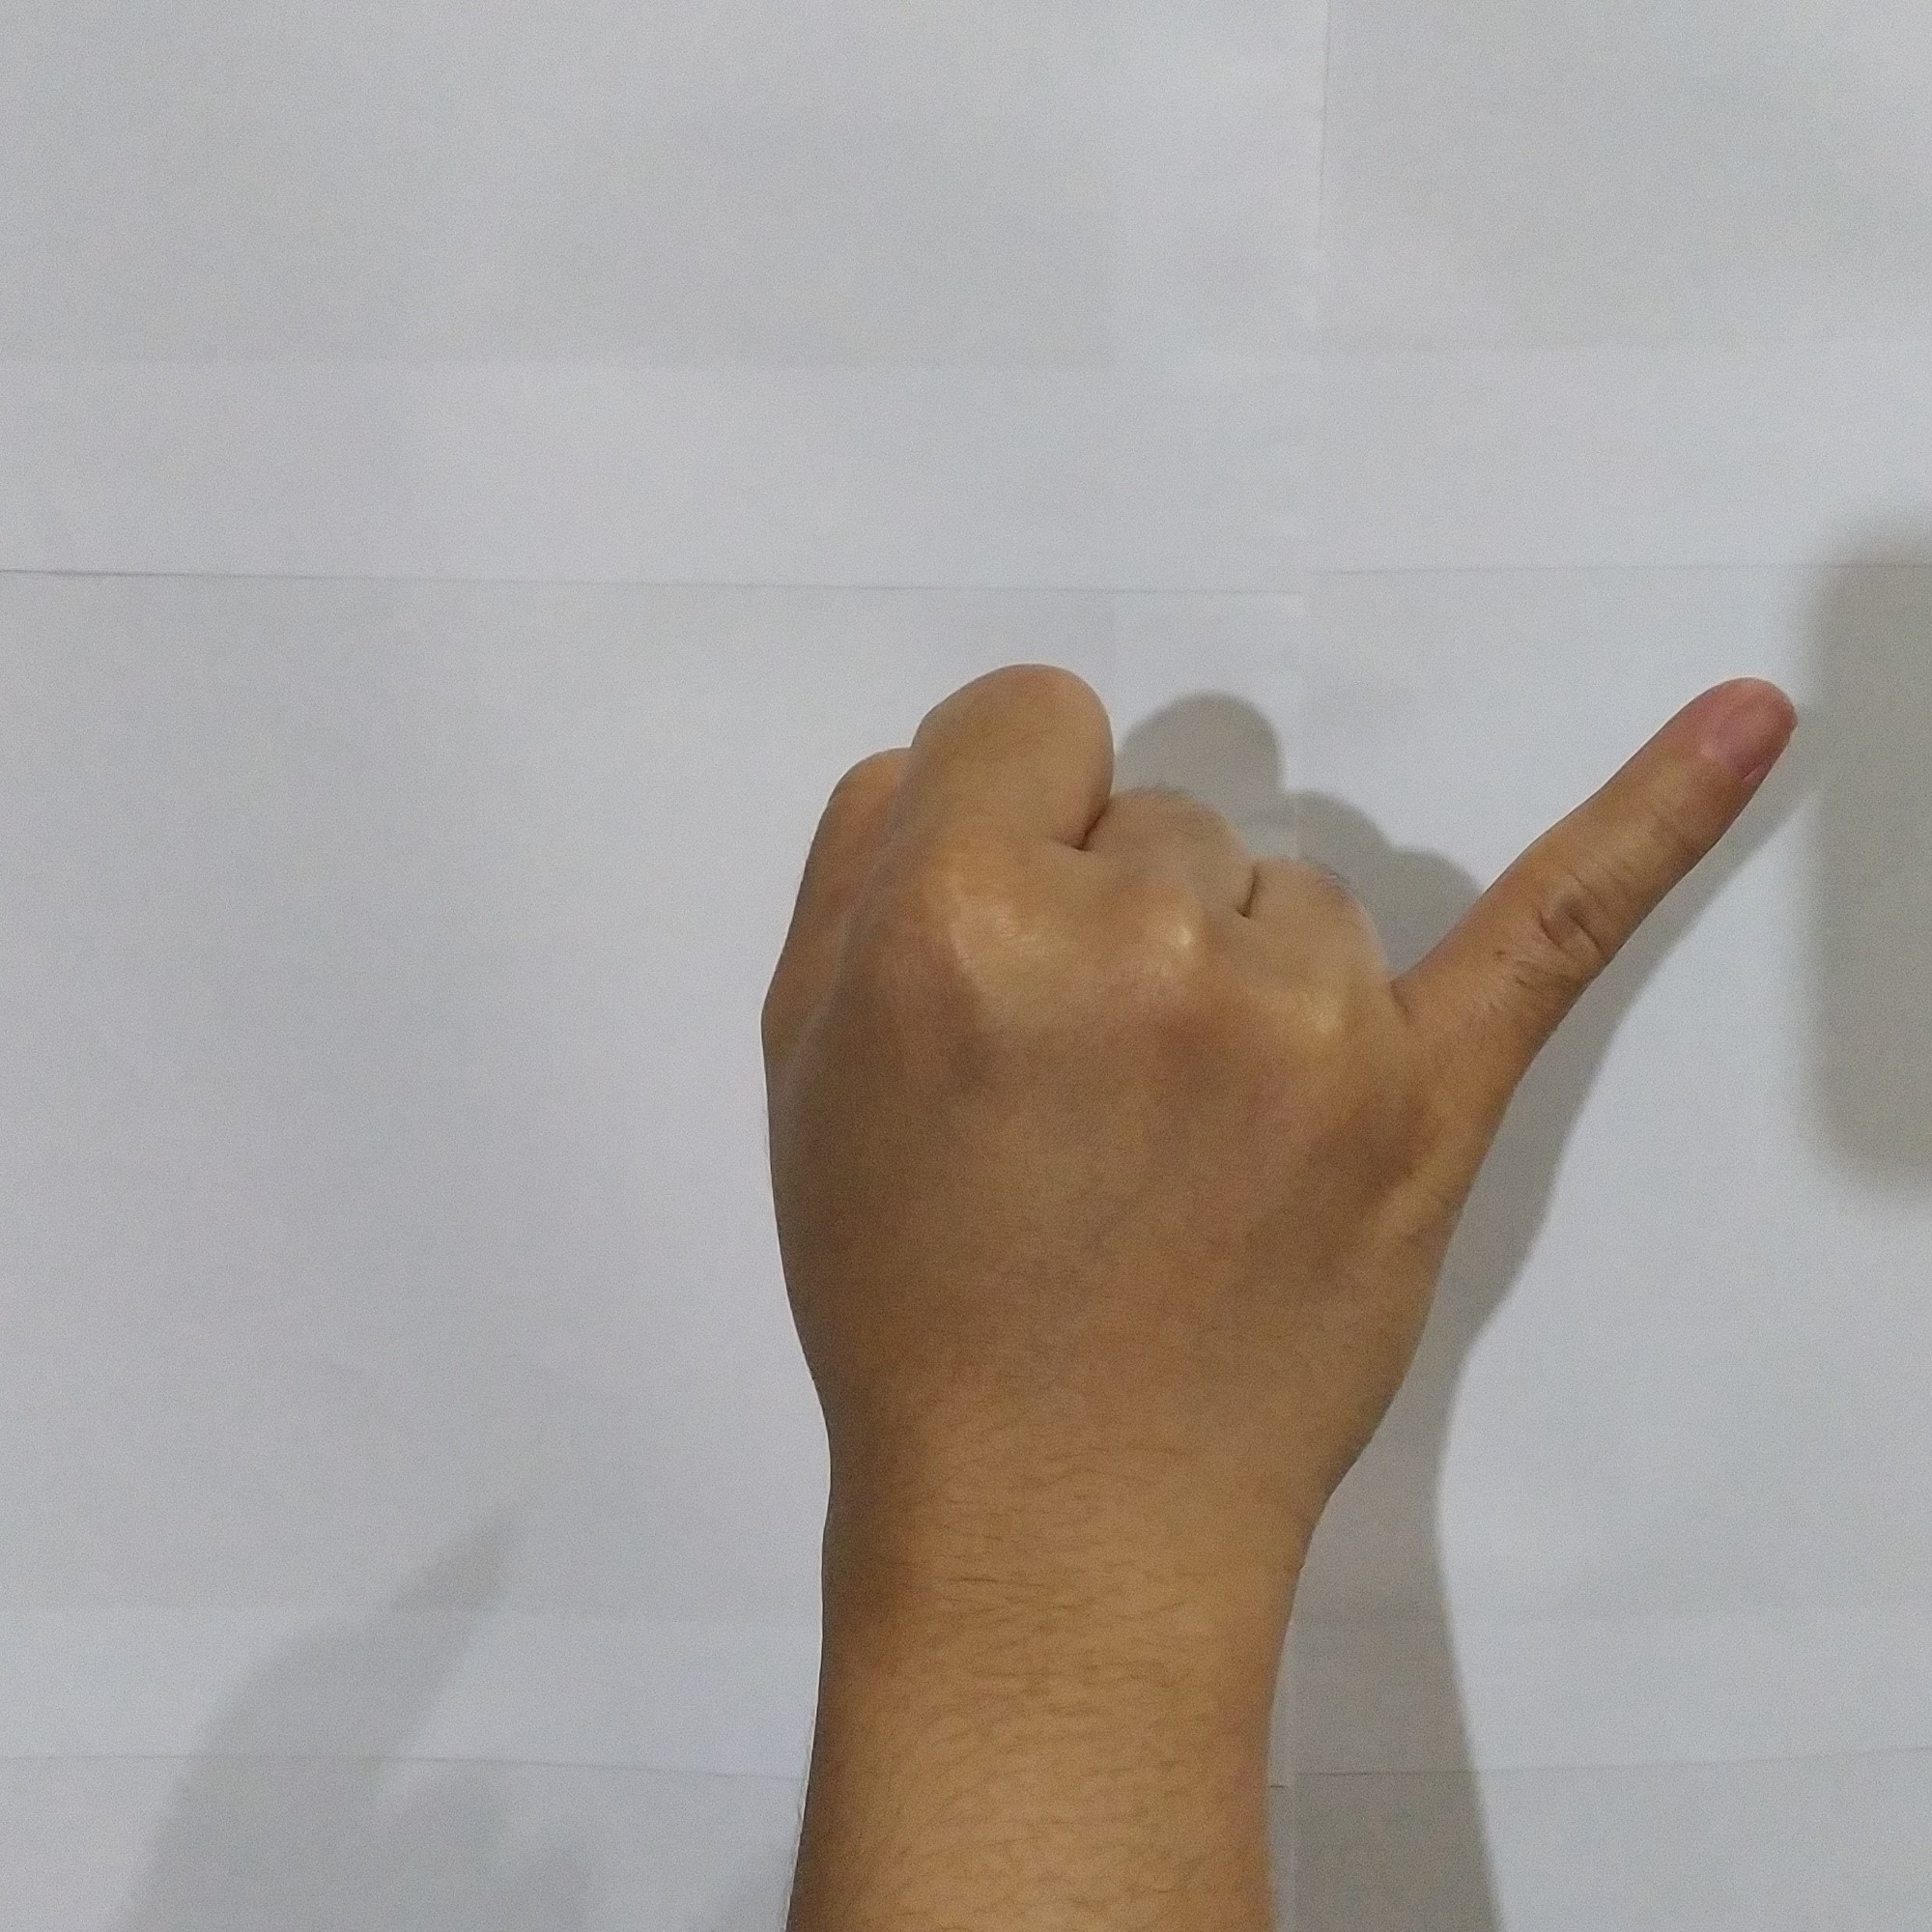J: (725, 633, 1815, 1484)
